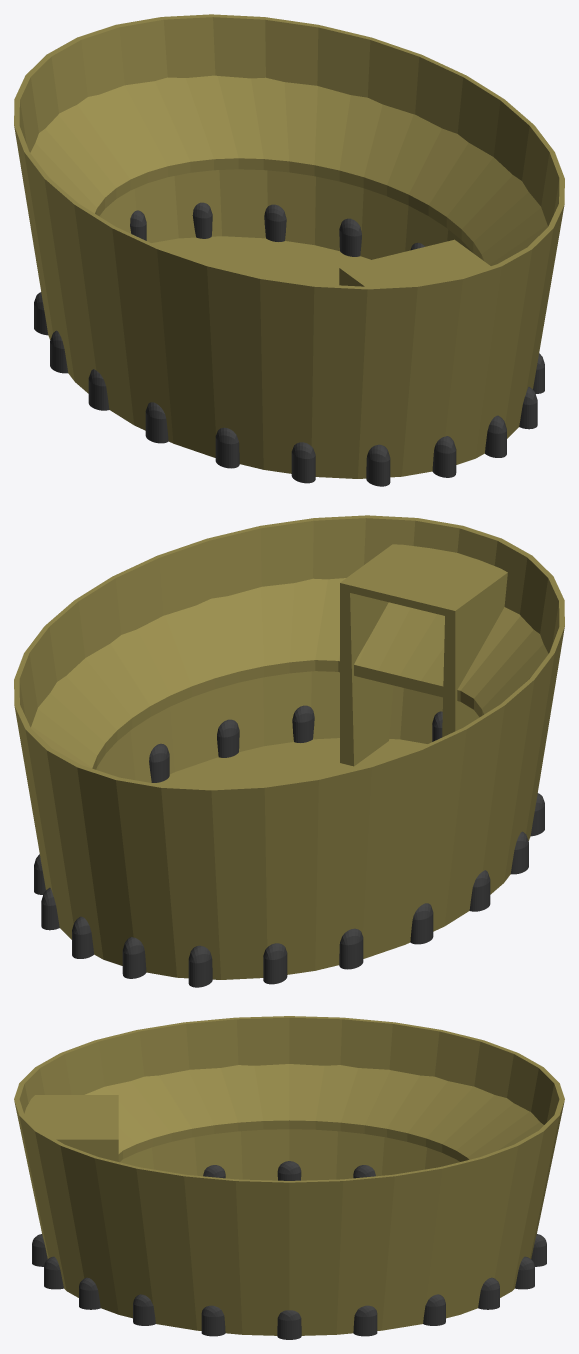
Rendered from Colloseum2.fbx.
3 renders of one model, top to bottom at view 1: azimuth 30°, elevation 25°; view 2: azimuth 150°, elevation 25°; view 3: azimuth 270°, elevation 25°, orthographic. The views are drawn at different scales.
Visible parts, largest first — view 1: BézierCircle.001, Cylinder.001; view 2: BézierCircle.001, Cylinder.001; view 3: BézierCircle.001, Cylinder.001.
Boxes of the visible parts, <box> form: BézierCircle.001: <box>14,14,564,478</box>; Cylinder.001: <box>34,202,544,486</box>; BézierCircle.001: <box>14,515,564,979</box>; Cylinder.001: <box>34,705,544,987</box>; BézierCircle.001: <box>14,1016,564,1335</box>; Cylinder.001: <box>32,1161,546,1339</box>.
Size of the model in its own units: 3270 by 1515 by 4568.
